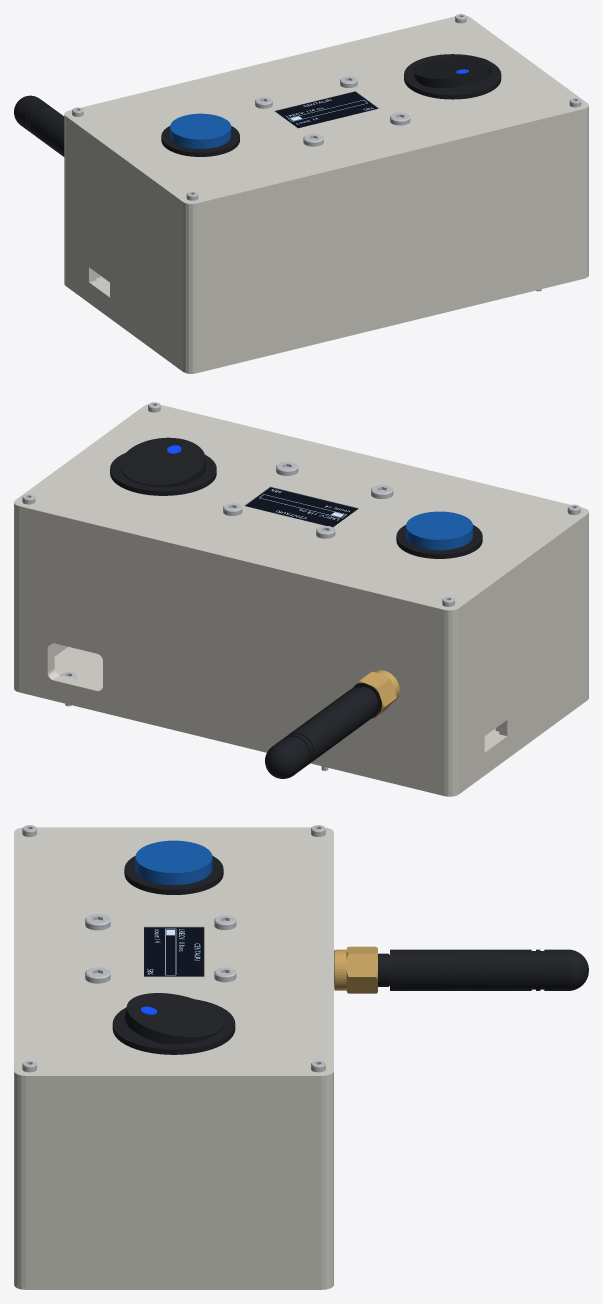
3 renders of one model, top to bottom at view 1: azimuth 30°, elevation 25°; view 2: azimuth 150°, elevation 25°; view 3: azimuth 270°, elevation 25°, orthographic. The views are drawn at different scales.
Visible parts, largest first — view 1: Link_body_and_antenna, Black_rocker, OLED_screen, Blue_push_button, Rocker_bezel, Button_bezel; view 2: Link_body_and_antenna, Black_rocker, OLED_screen, Blue_push_button, Rocker_bezel, Button_bezel; view 3: Link_body_and_antenna, Black_rocker, OLED_screen, Blue_push_button, Rocker_bezel, Button_bezel.
Boxes of the visible parts, <box> form: Link_body_and_antenna: <box>14,15,588,373</box>; Black_rocker: <box>413,56,491,87</box>; OLED_screen: <box>275,91,377,128</box>; Blue_push_button: <box>170,113,231,148</box>; Rocker_bezel: <box>404,54,501,99</box>; Button_bezel: <box>161,126,239,156</box>; Link_body_and_antenna: <box>14,404,588,796</box>; Black_rocker: <box>120,437,206,486</box>; OLED_screen: <box>245,487,357,527</box>; Blue_push_button: <box>406,511,472,550</box>; Rocker_bezel: <box>110,453,216,495</box>; Button_bezel: <box>396,525,482,558</box>; Link_body_and_antenna: <box>14,827,588,1289</box>; Black_rocker: <box>124,993,223,1044</box>; OLED_screen: <box>144,927,203,976</box>; Blue_push_button: <box>135,840,212,884</box>; Rocker_bezel: <box>112,999,235,1054</box>; Button_bezel: <box>124,856,223,894</box>.
Size of the model in its own units: 0.1121 by 0.0534 by 0.1096.
